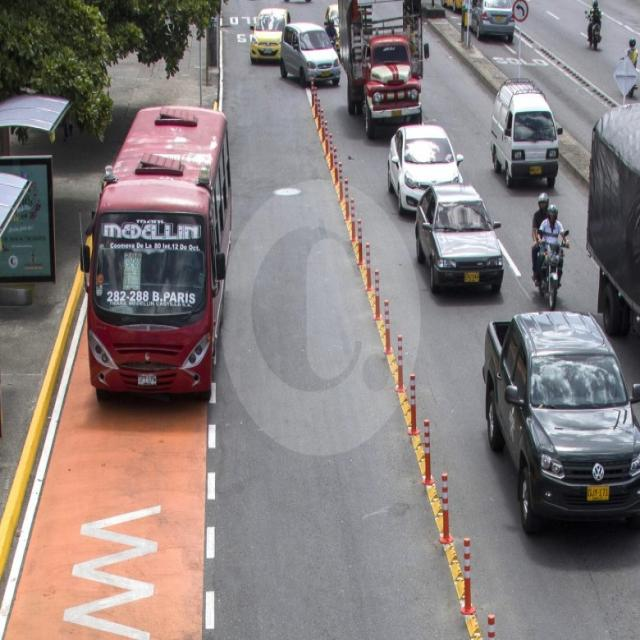BUS: (86, 113, 231, 414)
CMT: (482, 318, 638, 532)
